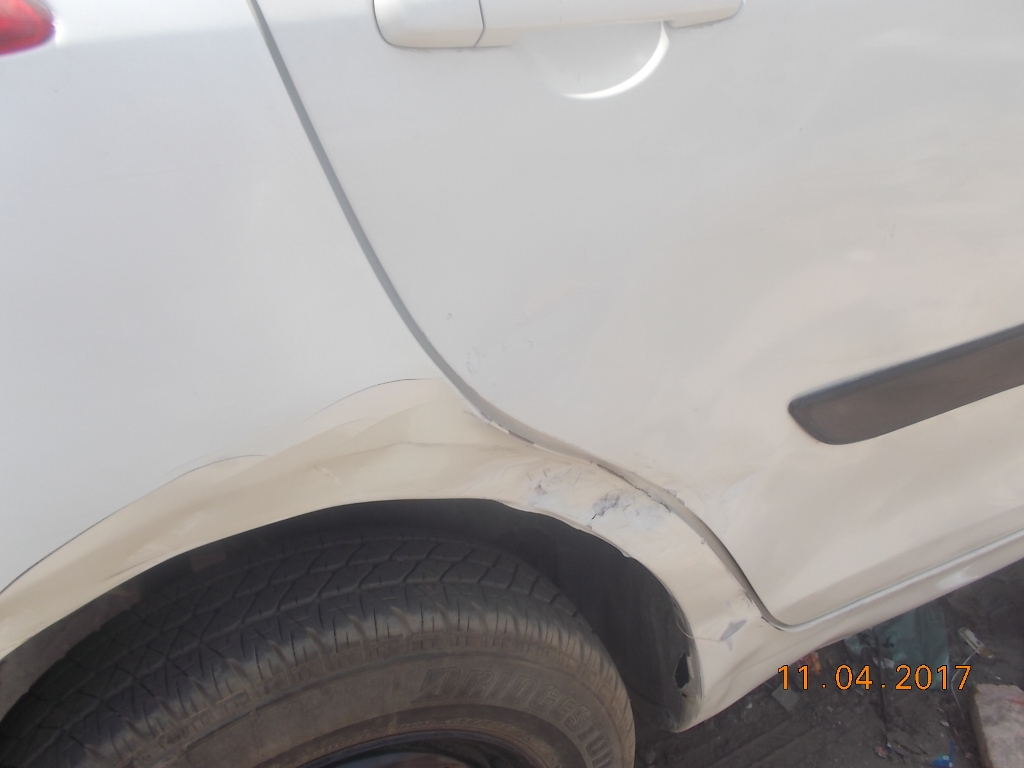Large_tear_or_damage: (96, 289, 734, 719)
